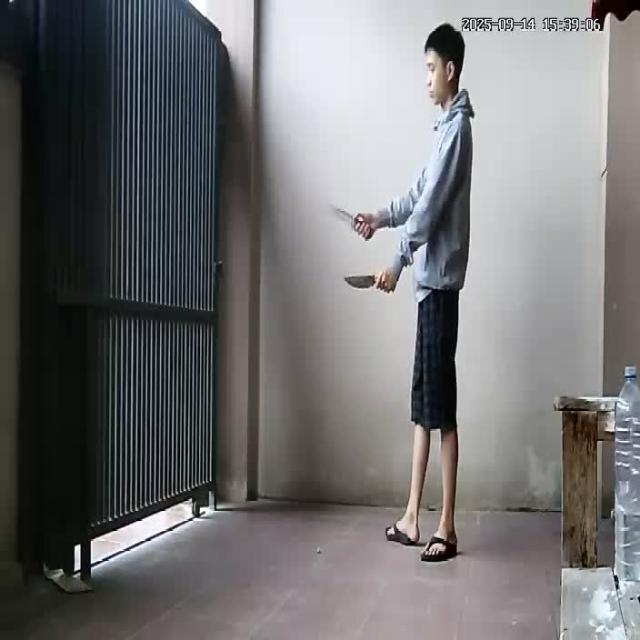senjata_tajam: (328, 200, 357, 232), (343, 274, 380, 289)
